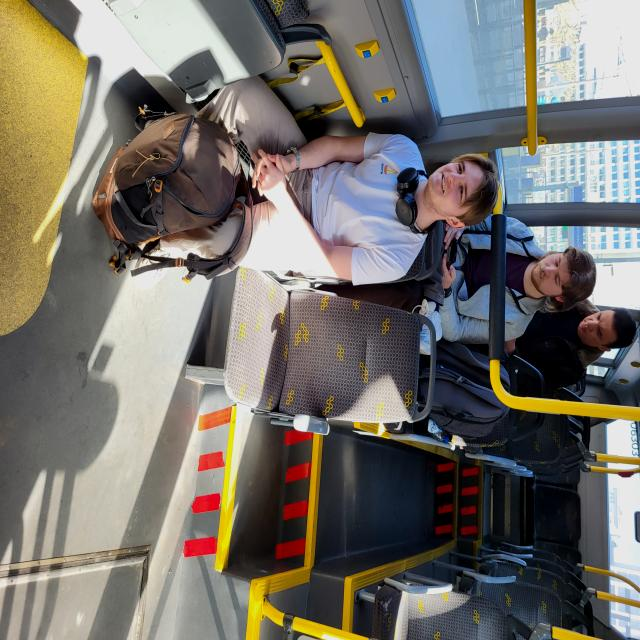asiento-libre: (359, 271, 486, 557), (592, 160, 640, 358), (589, 92, 640, 220), (510, 78, 572, 162), (468, 103, 514, 212), (573, 91, 613, 216)
